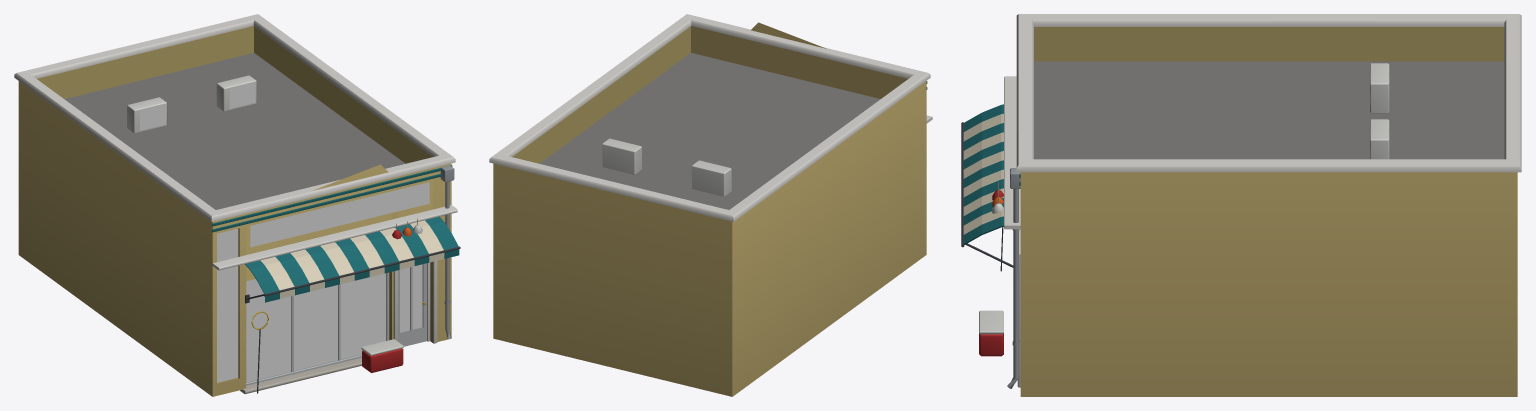
Rendered from DecoBaitFL.fbx.
3 renders of one model, left to right at view 1: azimuth 30°, elevation 25°; view 2: azimuth 150°, elevation 25°; view 3: azimuth 270°, elevation 25°, orthographic. The views are drawn at different scales.
Visible parts, largest first — view 1: DecoBaitFL; view 2: DecoBaitFL; view 3: DecoBaitFL.
Boxes of the visible parts, x1=… form: DecoBaitFL: x1=14, y1=14, x2=460, y2=396; DecoBaitFL: x1=489, y1=14, x2=932, y2=396; DecoBaitFL: x1=961, y1=14, x2=1521, y2=396.
Size of the model in its own units: 6.54 by 4.98 by 10.14.
